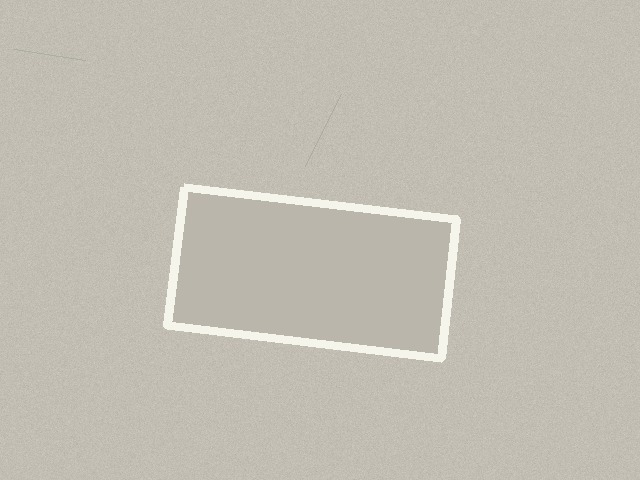parking_area: (167, 187, 456, 358)
